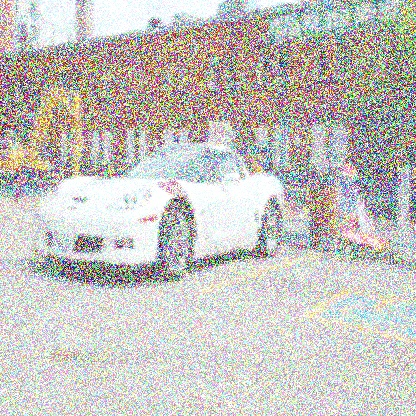Vehicle: (38, 141, 287, 281)
